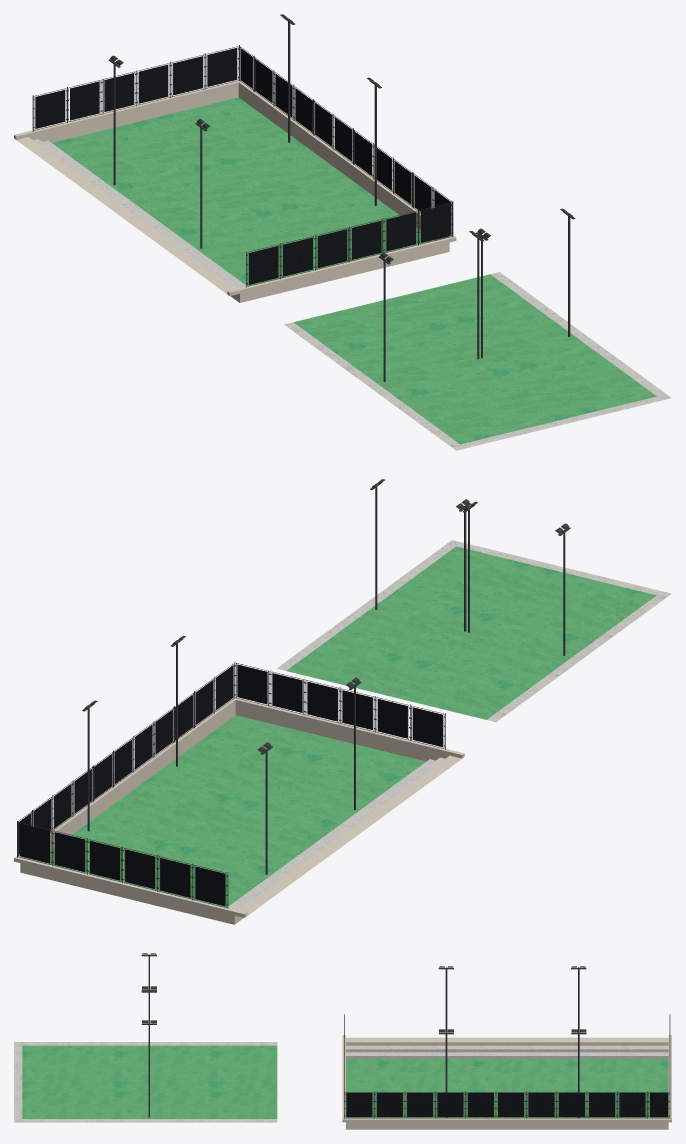
The model's file is QiuChang.FBX.
3 renders of one model, top to bottom at view 1: azimuth 30°, elevation 25°; view 2: azimuth 150°, elevation 25°; view 3: azimuth 270°, elevation 25°, orthographic. The views are drawn at different scales.
Visible parts, largest first — view 1: QiuChang, QiuChang2, WeiLan_QiuChang01, WeiLan_QiuChang17, WeiLan_QiuChang04, WeiLan_QiuChang23, WeiLan_QiuChang20, WeiLan_QiuChang21, WeiLan_QiuChang05, WeiLan_QiuChang19, WeiLan_QiuChang06, WeiLan_QiuChang02 (+10 smaller); view 2: QiuChang, QiuChang2, WeiLan_QiuChang01, WeiLan_QiuChang17, WeiLan_QiuChang18, WeiLan_QiuChang20, WeiLan_QiuChang21, WeiLan_QiuChang02, WeiLan_QiuChang05, WeiLan_QiuChang23, WeiLan_QiuChang03, WeiLan_QiuChang04 (+11 smaller); view 3: QiuChang, QiuChang2, WeiLan_QiuChang12, WeiLan_QiuChang09, WeiLan_QiuChang15, WeiLan_QiuChang16, WeiLan_QiuChang11, WeiLan_QiuChang08, WeiLan_QiuChang14, WeiLan_QiuChang13, WeiLan_QiuChang10, WeiLan_QiuChang07 (+1 smaller).
Part boxes in pixels (box(x1,y1,x2,y2)): QiuChang: box(14, 80, 456, 302); QiuChang2: box(284, 272, 671, 450); WeiLan_QiuChang01: box(32, 87, 67, 131); WeiLan_QiuChang17: box(246, 243, 281, 287); WeiLan_QiuChang04: box(136, 61, 171, 104); WeiLan_QiuChang23: box(419, 201, 453, 244); WeiLan_QiuChang20: box(350, 218, 384, 261); WeiLan_QiuChang21: box(384, 209, 418, 252); WeiLan_QiuChang05: box(171, 53, 205, 96); WeiLan_QiuChang19: box(315, 226, 349, 269); WeiLan_QiuChang06: box(205, 45, 239, 88); WeiLan_QiuChang02: box(68, 79, 102, 121); QiuChang: box(14, 697, 464, 924); QiuChang2: box(277, 540, 671, 721); WeiLan_QiuChang01: box(192, 863, 228, 908); WeiLan_QiuChang17: box(410, 704, 445, 749); WeiLan_QiuChang18: box(374, 696, 409, 740); WeiLan_QiuChang20: box(304, 679, 339, 722); WeiLan_QiuChang21: box(269, 670, 304, 714); WeiLan_QiuChang02: box(157, 855, 192, 899); WeiLan_QiuChang05: box(52, 829, 87, 873); WeiLan_QiuChang23: box(234, 662, 269, 705); WeiLan_QiuChang03: box(122, 846, 157, 890); WeiLan_QiuChang04: box(87, 838, 122, 882); QiuChang: box(342, 1035, 671, 1129); QiuChang2: box(14, 1042, 277, 1122); WeiLan_QiuChang12: box(466, 1091, 496, 1118); WeiLan_QiuChang09: box(557, 1091, 587, 1118); WeiLan_QiuChang15: box(375, 1091, 405, 1118); WeiLan_QiuChang16: box(344, 1091, 374, 1118); WeiLan_QiuChang11: box(496, 1091, 526, 1118); WeiLan_QiuChang08: box(587, 1091, 617, 1118); WeiLan_QiuChang14: box(405, 1091, 435, 1118); WeiLan_QiuChang13: box(435, 1091, 465, 1118); WeiLan_QiuChang10: box(526, 1091, 556, 1118); WeiLan_QiuChang07: box(617, 1091, 647, 1118).
Bounding box in the file's own units: 1256 × 723 × 4120.
